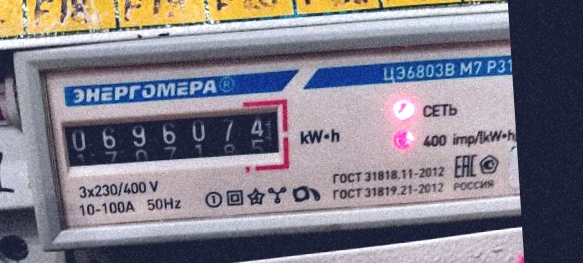0: (67, 125, 88, 151), (189, 116, 206, 142)
4: (247, 112, 264, 135)
5: (249, 137, 266, 153)
6: (160, 118, 178, 145), (99, 124, 118, 149)
7: (219, 115, 237, 141)
9: (129, 121, 147, 148)
screen: (50, 94, 294, 178)
